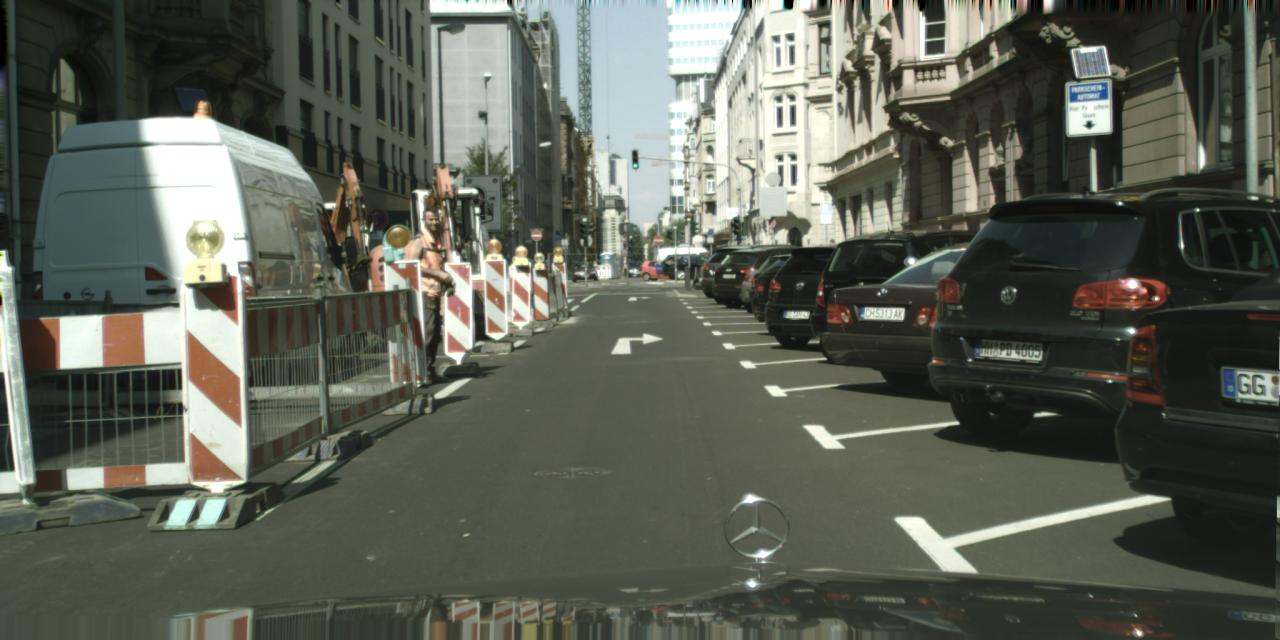ped: (392, 206, 464, 384), (822, 238, 841, 283)
